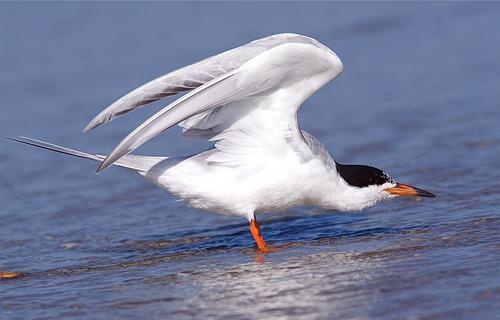bird: (5, 31, 440, 259)
